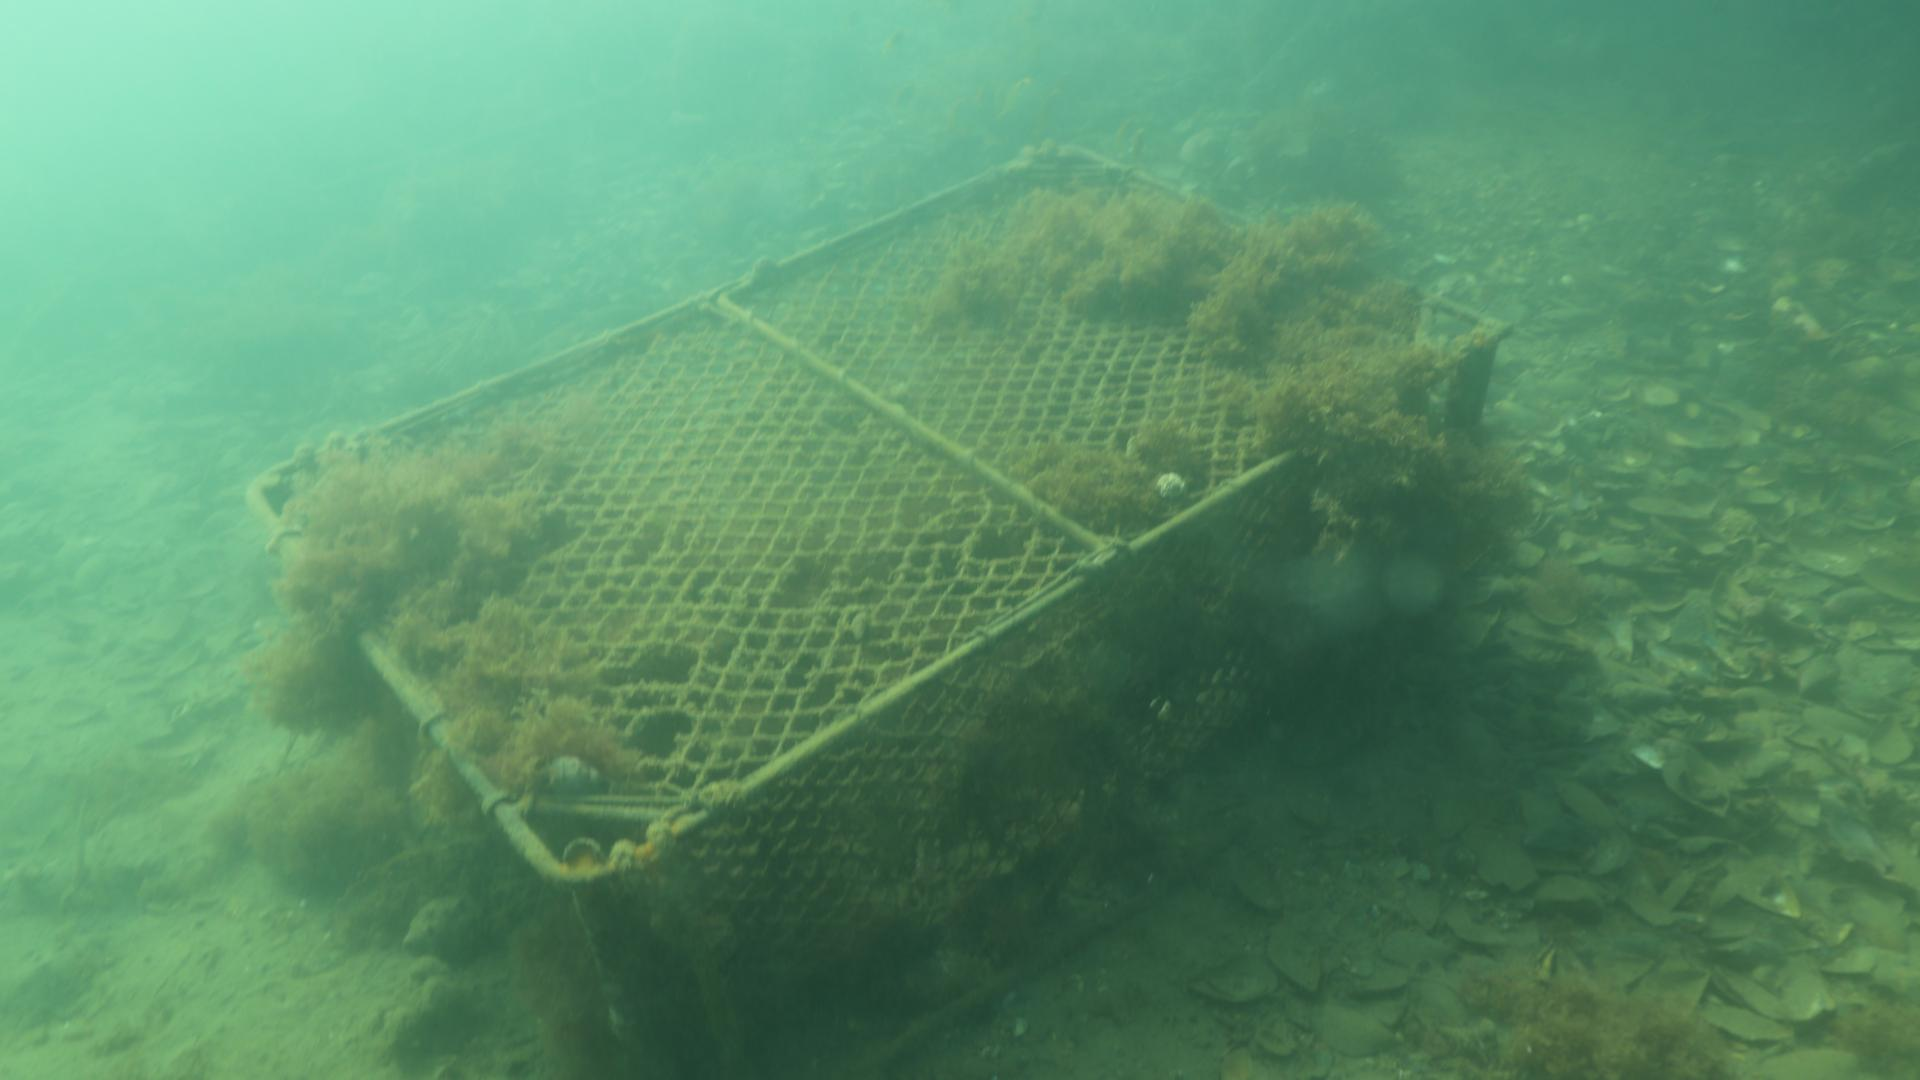rectangular fish trap: (247, 138, 1514, 1080)
